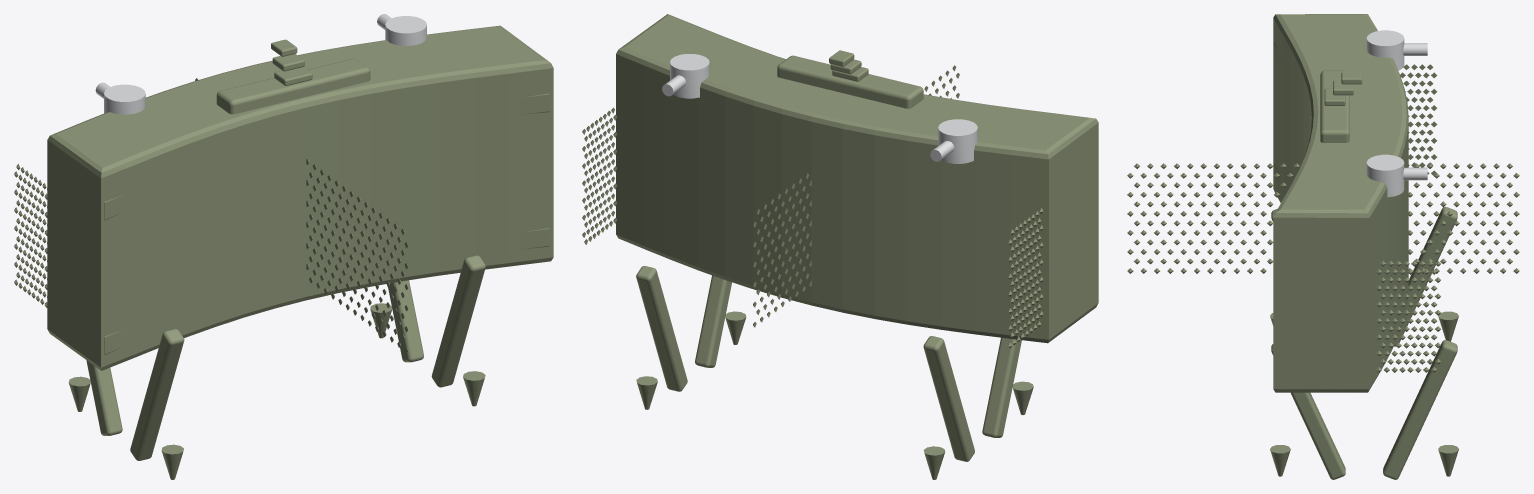
The model's file is mega-weapon-pack-directional-mine-9451490e__33362.glb.
3 views of the same model, side by side, from view 1: azimuth 30°, elevation 25°; view 2: azimuth 150°, elevation 25°; view 3: azimuth 270°, elevation 25° (orthographic). The views are drawn at different scales.
Parts seen in each view (by area): view 1: directional-mine; view 2: directional-mine; view 3: directional-mine.
Boxes of the visible parts, x1,y1,x2,y2 form: directional-mine: [14, 14, 553, 479]; directional-mine: [582, 14, 1098, 479]; directional-mine: [1127, 14, 1519, 479].
Size of the model in its own units: 0.226 by 0.1762 by 0.1869.
